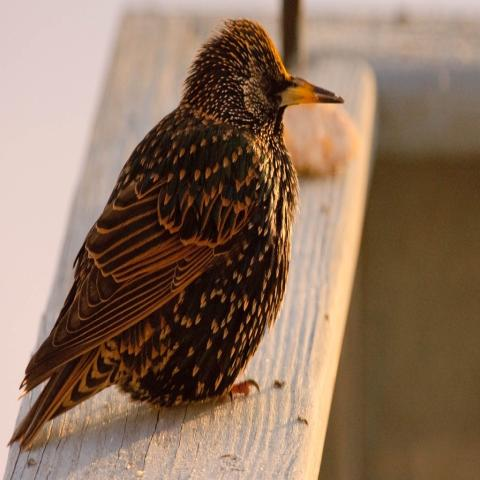bird: (6, 15, 346, 452)
